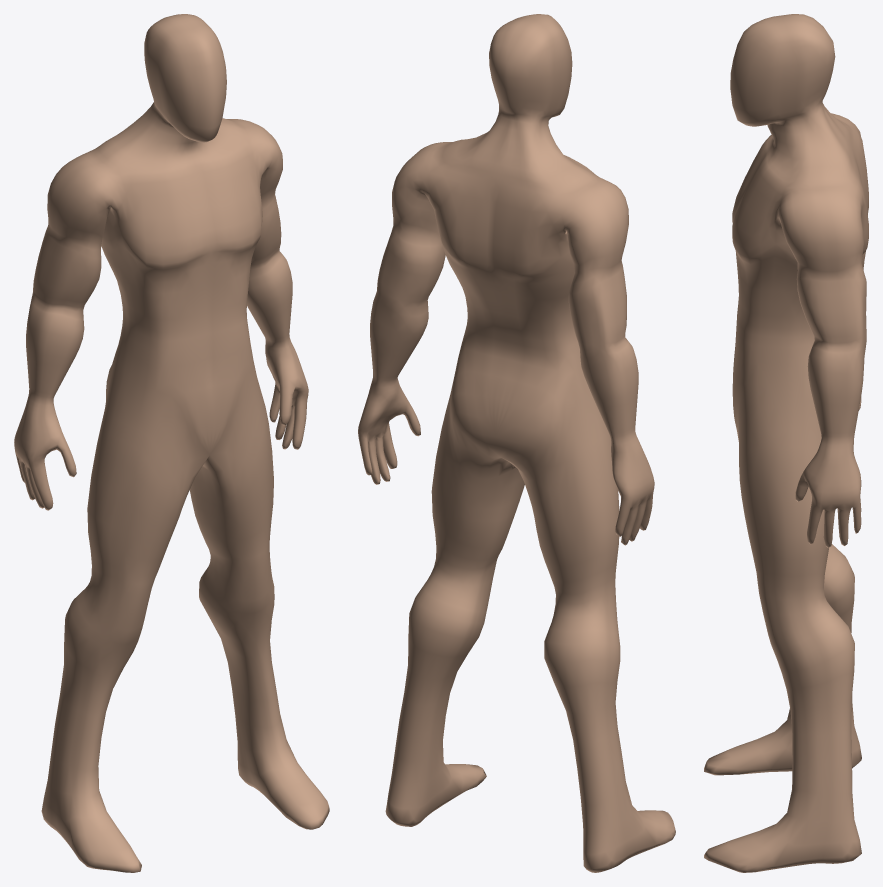
File: male.glb
3 views of the same model, side by side, from view 1: azimuth 30°, elevation 25°; view 2: azimuth 150°, elevation 25°; view 3: azimuth 270°, elevation 25° (orthographic).
Visible parts, largest first — view 1: Cube; view 2: Cube; view 3: Cube.
Part boxes in pixels (<box>): Cube: <box>14,14,329,872</box>; Cube: <box>358,14,675,872</box>; Cube: <box>704,14,868,872</box>.
Bounding box in the file's own units: 1.28 × 3.5 × 0.6553.
